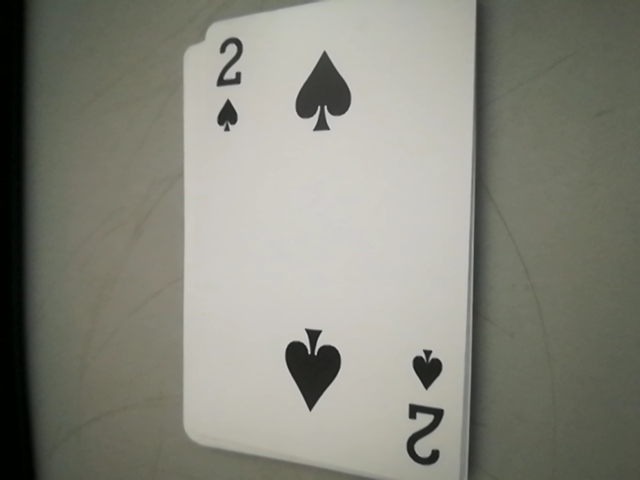ht 2: (399, 343, 454, 475)
